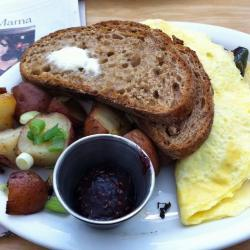bread: (26, 27, 198, 122)
omelette: (147, 17, 250, 223)
